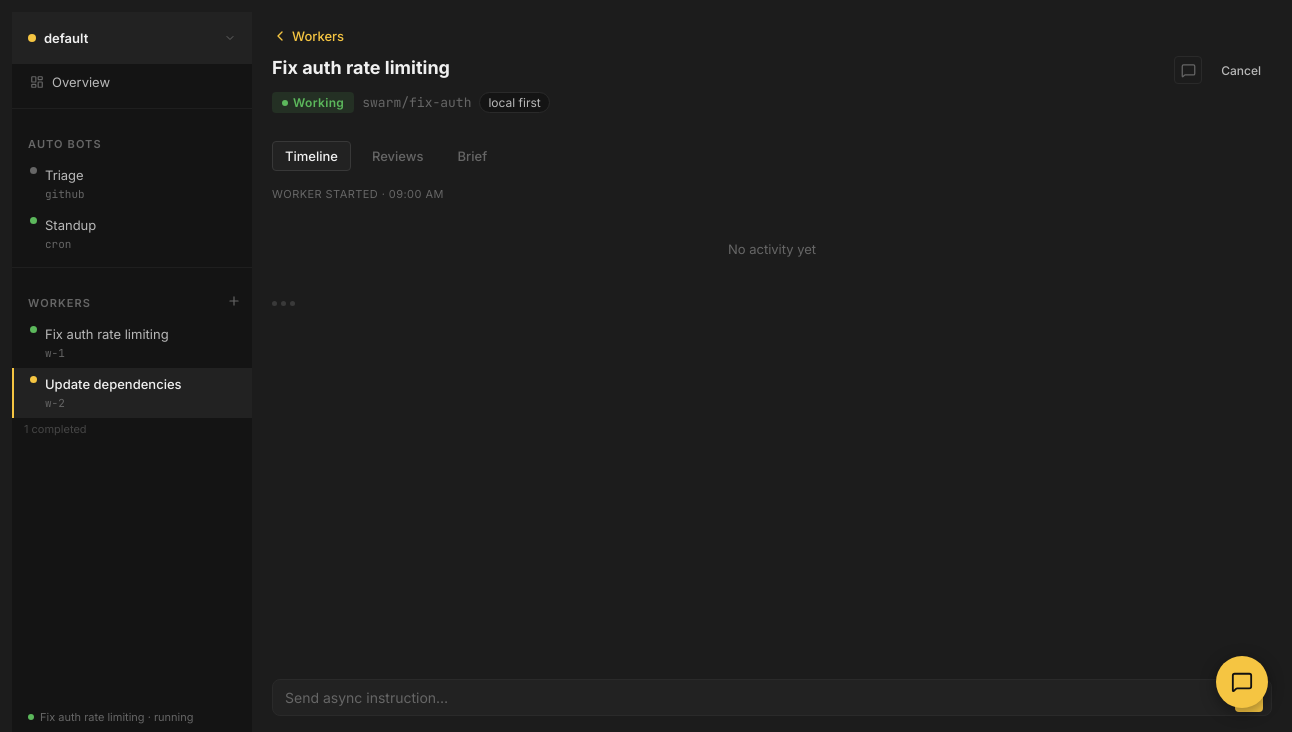
Test: App shell › opens the completed workers view from the sidebar footer
The width and height of the screenshot is (1292, 732).
Click the button with test id "done-workers-footer". click: x=132, y=431
box: [12,418,252,444]
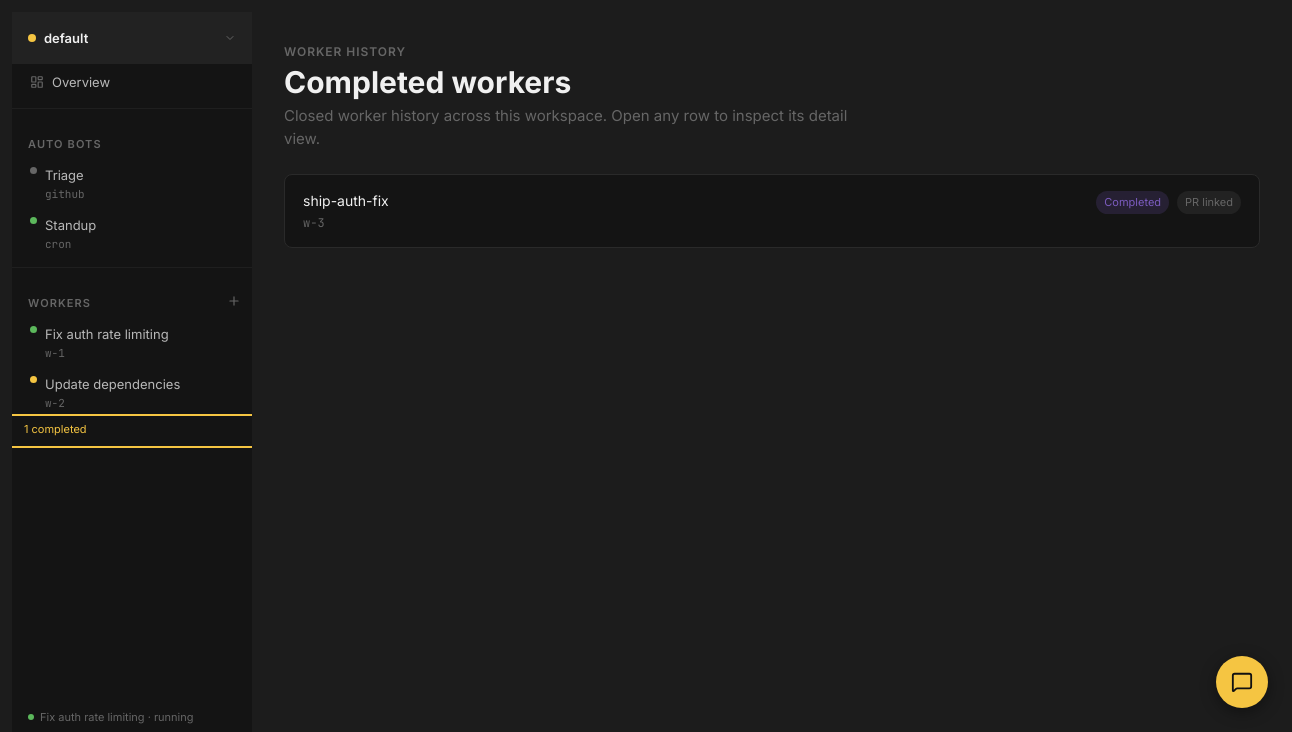
Check: the heading "Completed workers" is shown, box [284,64,571,100]
Check: the text "ship-auth-fix" is shown, box [303,191,389,211]
